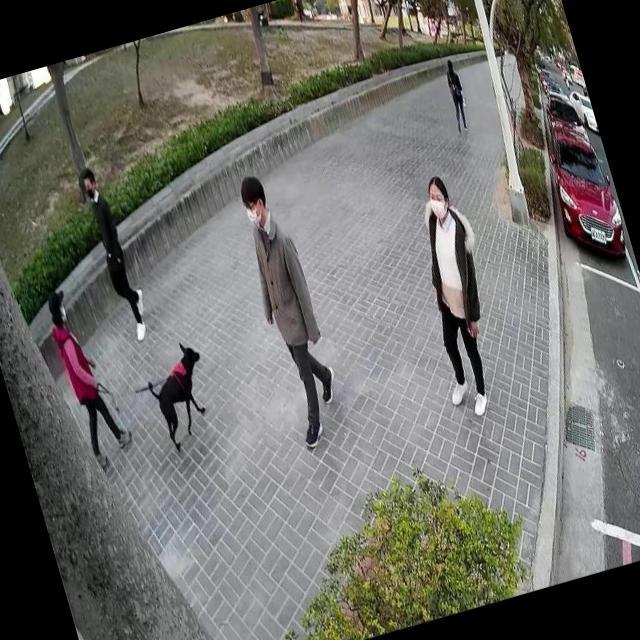person: (218, 157, 354, 456), (386, 163, 522, 425), (37, 272, 140, 474), (74, 158, 156, 346), (434, 50, 476, 138), (287, 0, 306, 23)
